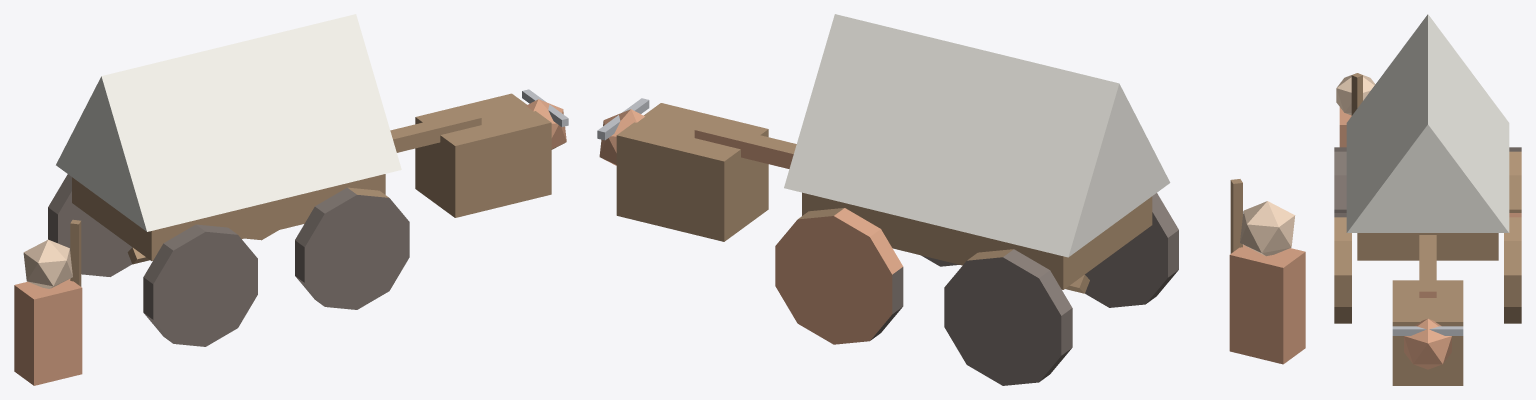
Rendered from settler.glb.
3 renders of one model, left to right at view 1: azimuth 30°, elevation 25°; view 2: azimuth 150°, elevation 25°; view 3: azimuth 270°, elevation 25°, orthographic. The views are drawn at different scales.
Parts seen in each view (by area): view 1: settler; view 2: settler; view 3: settler.
Boxes of the visible parts, box(x1,y1,x2,y2) form: settler: box(14, 14, 568, 385); settler: box(597, 14, 1305, 385); settler: box(1334, 14, 1521, 385).
Size of the model in its own units: 0.8408 by 0.34 by 0.265.
